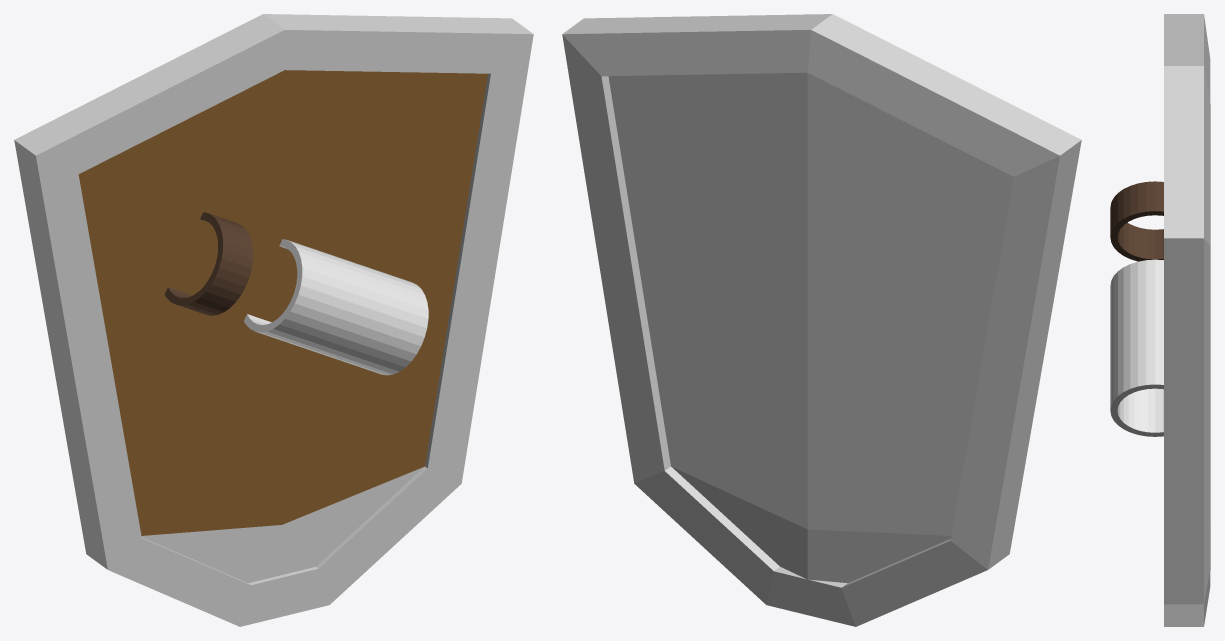
The model's file is Shield.fbx.
3 views of the same model, side by side, from view 1: azimuth 30°, elevation 25°; view 2: azimuth 150°, elevation 25°; view 3: azimuth 270°, elevation 25° (orthographic). The views are drawn at different scales.
Visible parts, largest first — view 1: Cube, Cylinder, Cylinder.001; view 2: Cube; view 3: Cube, Cylinder, Cylinder.001.
Part boxes in pixels (x1,y1,x2,y2): Cube: (14,14,533,626); Cylinder: (244,239,428,375); Cylinder.001: (164,212,253,315); Cube: (562,14,1081,626); Cube: (1164,14,1210,626); Cylinder: (1110,259,1163,436); Cylinder.001: (1110,181,1163,261).
Bounding box in the file's own units: 200 × 225 × 37.79.
